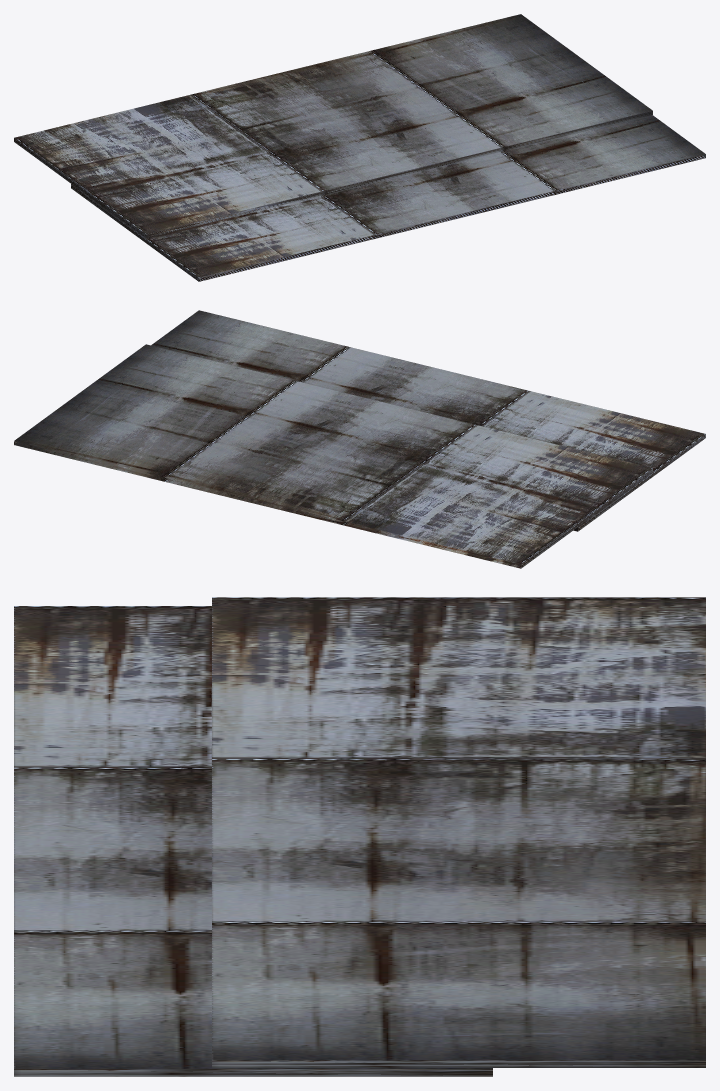
Rendered from conveyor_hatch_02.DAE.
3 renders of one model, top to bottom at view 1: azimuth 30°, elevation 25°; view 2: azimuth 150°, elevation 25°; view 3: azimuth 270°, elevation 25°, orthographic. The views are drawn at different scales.
Visible parts, largest first — view 1: Object057, Object058; view 2: Object057, Object058; view 3: Object057, Object058.
Part boxes in pixels (x1=…): Object057: x1=14, y1=14, x2=652, y2=238; Object058: x1=71, y1=115, x2=705, y2=281; Object057: x1=14, y1=344, x2=652, y2=568; Object058: x1=151, y1=310, x2=705, y2=531; Object057: x1=212, y1=597, x2=705, y2=1067; Object058: x1=14, y1=606, x2=492, y2=1076.
Bounding box in the file's own units: 7.89 × 0.1302 × 4.99.
